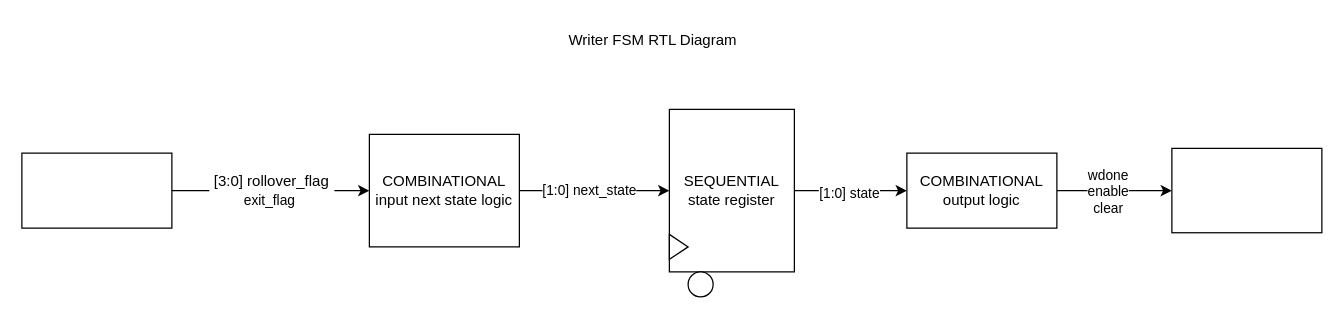
Image size: 1344x319. Some labels were removed from this diagram. Here are the shapes that lost their labels. From the top down, the centre of each, then its label:
At point (96, 190): "inputs: [3:0] rollover_flag exit_flag".
At point (1246, 190): "outputs: wdone enable clear".
